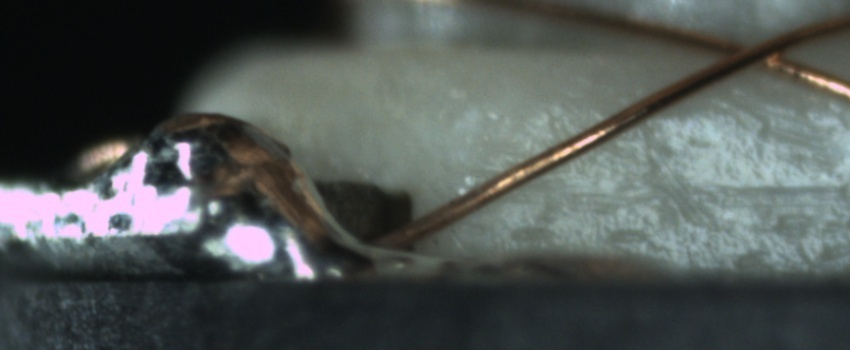CL: (701, 24, 816, 78)
DL: (531, 158, 849, 222)
TE: (68, 128, 138, 179)
